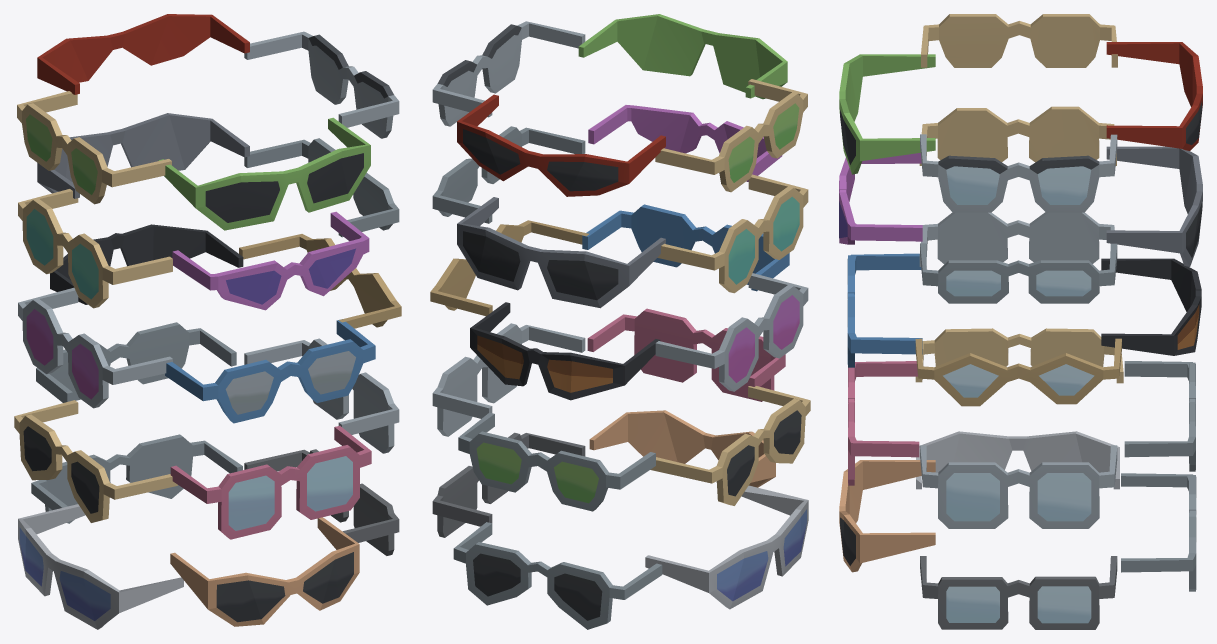
The model's file is Eyewear_Stand_01_Rack_01_Glasses_01.obj.
The picture shows the model from 3 angles, left to right: view 1: azimuth 30°, elevation 25°; view 2: azimuth 150°, elevation 25°; view 3: azimuth 270°, elevation 25°; orthographic projection. The views are drawn at different scales.
Visible parts, largest first — view 1: Eyewear_Stand_01_Rack_01_Glasses_01_0; view 2: Eyewear_Stand_01_Rack_01_Glasses_01_0; view 3: Eyewear_Stand_01_Rack_01_Glasses_01_0.
Boxes of the visible parts, bbox=[...] form: Eyewear_Stand_01_Rack_01_Glasses_01_0: bbox=[14, 14, 401, 629]; Eyewear_Stand_01_Rack_01_Glasses_01_0: bbox=[430, 14, 810, 629]; Eyewear_Stand_01_Rack_01_Glasses_01_0: bbox=[839, 14, 1202, 629].
Bounding box in the file's own units: 0.4119 × 0.6235 × 0.4228.
1 material, 1 textured.
